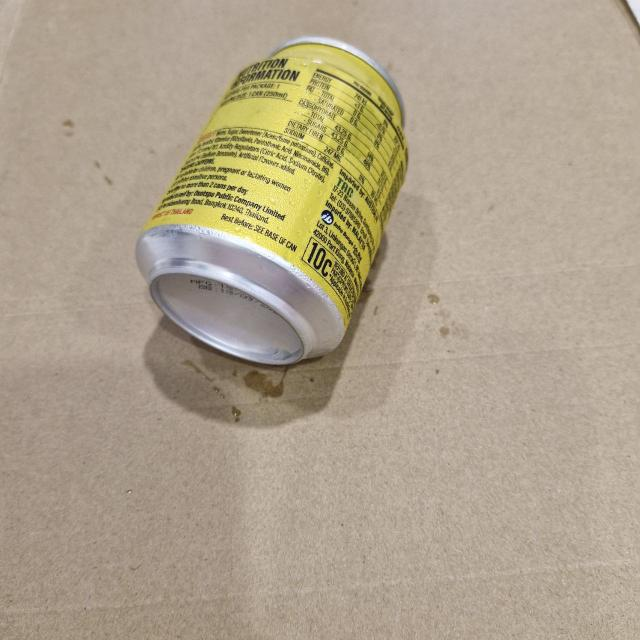metal: (132, 26, 414, 374)
